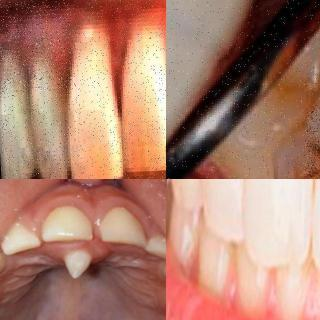Gum Swelling: (71, 182, 125, 220)
maligned: (54, 244, 101, 286)
